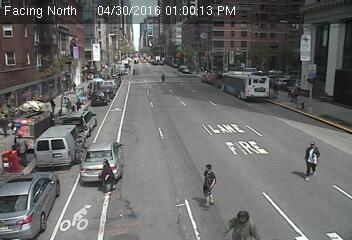neg: (248, 105, 270, 134), (143, 149, 162, 175), (310, 13, 329, 39), (130, 100, 148, 124), (173, 92, 191, 115), (114, 30, 131, 53), (62, 196, 78, 218), (337, 92, 351, 117), (223, 70, 239, 91), (213, 28, 228, 48), (301, 102, 316, 122), (243, 156, 258, 176), (205, 118, 220, 137), (29, 34, 44, 53), (250, 13, 264, 32), (81, 56, 94, 75), (114, 83, 128, 100), (196, 75, 209, 93), (58, 133, 71, 151), (325, 76, 337, 93), (282, 28, 294, 44), (161, 26, 172, 40), (73, 49, 83, 63), (192, 48, 202, 61), (124, 64, 132, 75)
pos: (186, 161, 223, 210), (293, 138, 326, 182), (91, 156, 120, 195), (230, 203, 255, 237), (7, 130, 31, 162), (283, 82, 299, 103), (155, 66, 169, 84), (269, 79, 282, 97), (43, 92, 56, 109), (73, 94, 84, 109), (62, 95, 72, 110)
